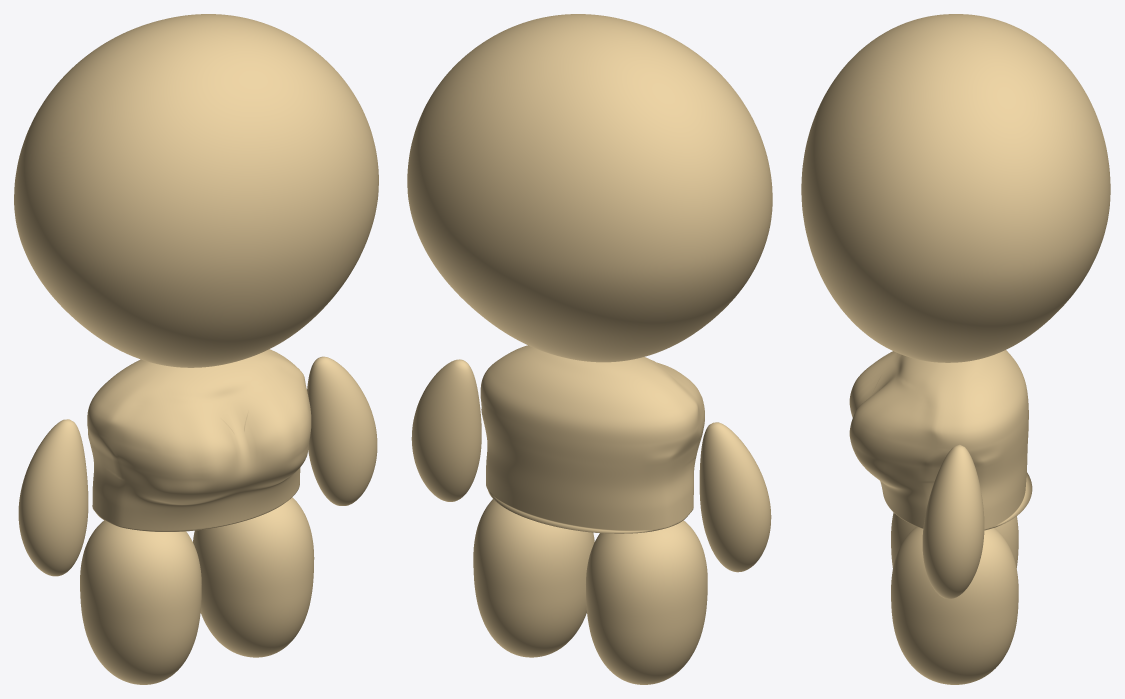
Rendered from Feminine-base.glb.
3 renders of one model, left to right at view 1: azimuth 30°, elevation 25°; view 2: azimuth 150°, elevation 25°; view 3: azimuth 270°, elevation 25°, orthographic. The views are drawn at different scales.
Parts seen in each view (by area): view 1: Skin / soft oval head, Skin / rounded torso, Skin / leg blob -1, Skin / leg blob 1, Skin / swept arm -1, Skin / swept arm 1; view 2: Skin / soft oval head, Skin / rounded torso, Skin / leg blob -1, Skin / leg blob 1, Skin / swept arm -1, Skin / swept arm 1; view 3: Skin / soft oval head, Skin / rounded torso, Skin / leg blob 1, Skin / swept arm 1, Skin / leg blob -1.
Boxes of the visible parts, x1,y1,x2,y2 form: Skin / soft oval head: [14, 14, 378, 367]; Skin / rounded torso: [87, 349, 311, 531]; Skin / leg blob -1: [80, 520, 201, 684]; Skin / leg blob 1: [193, 497, 314, 657]; Skin / swept arm -1: [18, 419, 88, 576]; Skin / swept arm 1: [307, 356, 377, 505]; Skin / soft oval head: [407, 14, 772, 362]; Skin / rounded torso: [480, 345, 704, 533]; Skin / leg blob -1: [586, 520, 707, 684]; Skin / leg blob 1: [473, 499, 594, 657]; Skin / swept arm -1: [699, 422, 771, 572]; Skin / swept arm 1: [411, 359, 481, 501]; Skin / soft oval head: [801, 14, 1110, 362]; Skin / rounded torso: [849, 350, 1032, 530]; Skin / leg blob 1: [891, 526, 1018, 684]; Skin / swept arm 1: [922, 444, 984, 598]; Skin / leg blob -1: [891, 512, 1018, 567].
Bounding box in the file's own units: 1.04 × 1.8 × 0.81.
